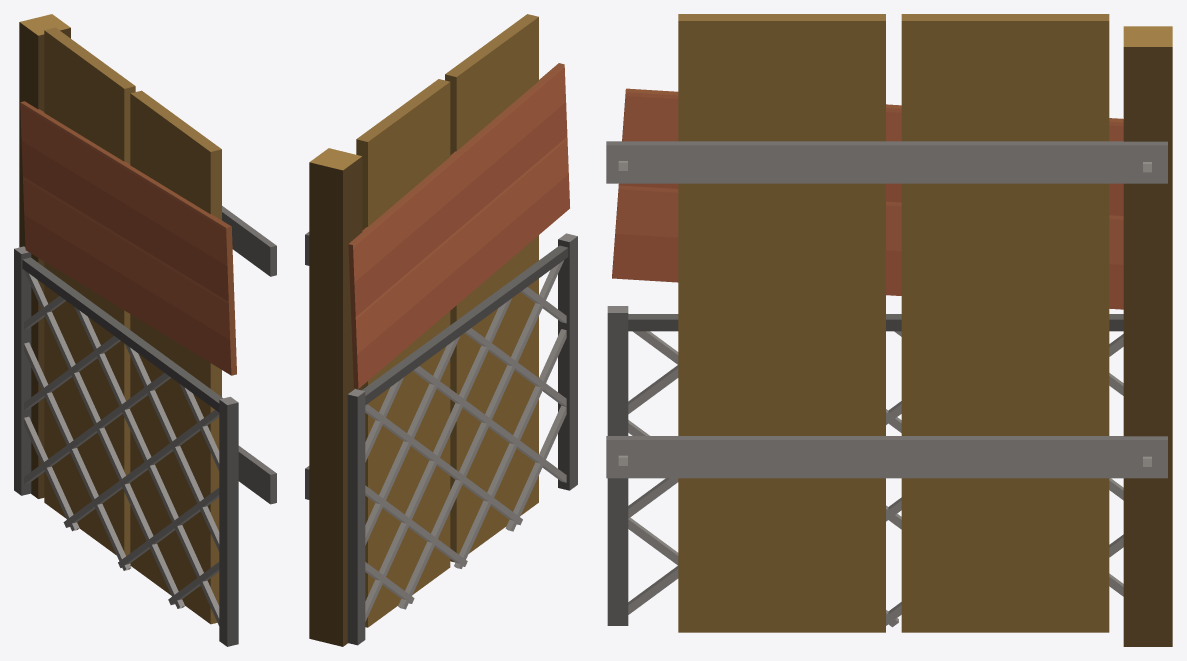
The model's file is FenceWoodL_Patched_03.fbx.
3 views of the same model, side by side, from view 1: azimuth 30°, elevation 25°; view 2: azimuth 150°, elevation 25°; view 3: azimuth 270°, elevation 25° (orthographic). The views are drawn at different scales.
Parts seen in each view (by area): view 1: FenceWoodL_Patched_03; view 2: FenceWoodL_Patched_03; view 3: FenceWoodL_Patched_03.
Boxes of the visible parts, <box> form: FenceWoodL_Patched_03: <box>14,14,276,646</box>; FenceWoodL_Patched_03: <box>305,14,577,646</box>; FenceWoodL_Patched_03: <box>606,14,1172,646</box>.
Bounding box in the file's own units: 0.6929 × 5.05 × 6.06.
